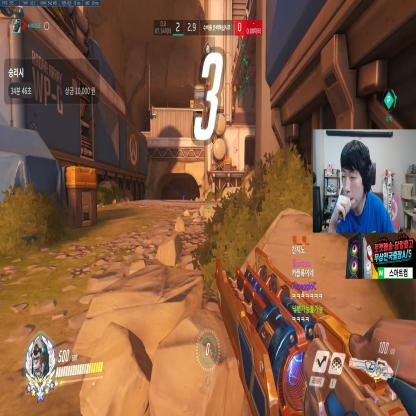streamer: (328, 140, 395, 233)
